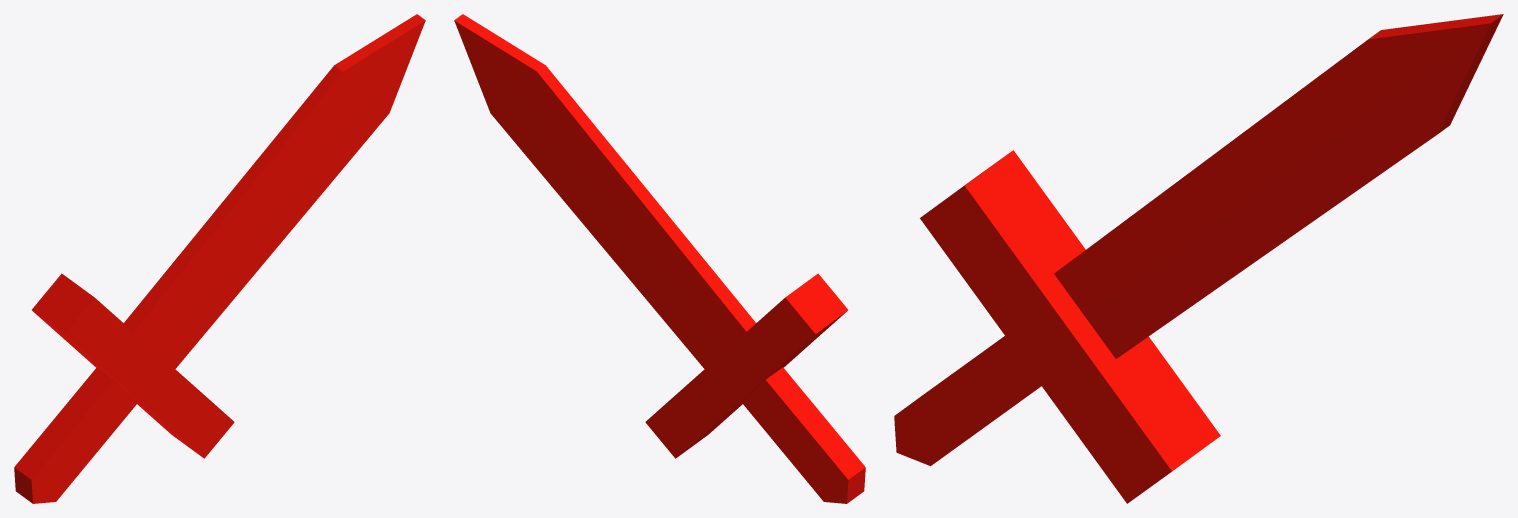
The model's file is ATKItemModel.fbx.
The picture shows the model from 3 angles, left to right: view 1: azimuth 30°, elevation 25°; view 2: azimuth 150°, elevation 25°; view 3: azimuth 330°, elevation 25°; orthographic projection. The views are drawn at different scales.
Parts seen in each view (by area): view 1: Cube; view 2: Cube; view 3: Cube.
Boxes of the visible parts, x1,y1,x2,y2 form: Cube: [14, 14, 425, 503]; Cube: [454, 14, 865, 503]; Cube: [894, 14, 1503, 503].
Size of the model in its own units: 386 by 358 by 55.21.
